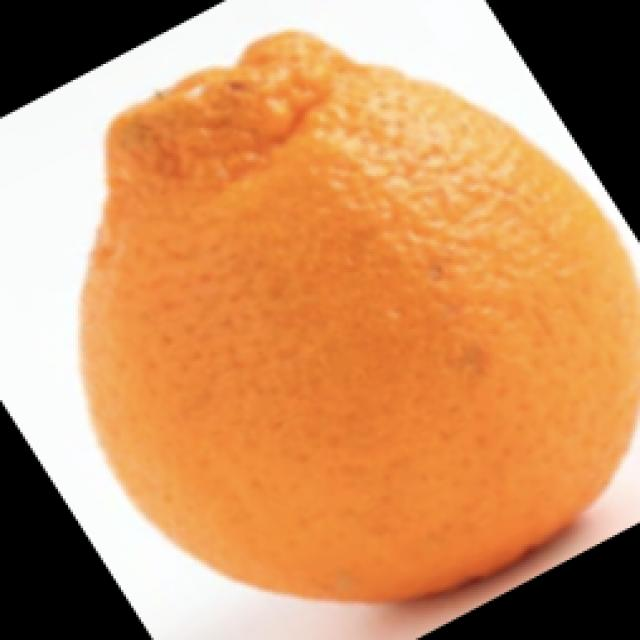fresh: (50, 9, 640, 622)
